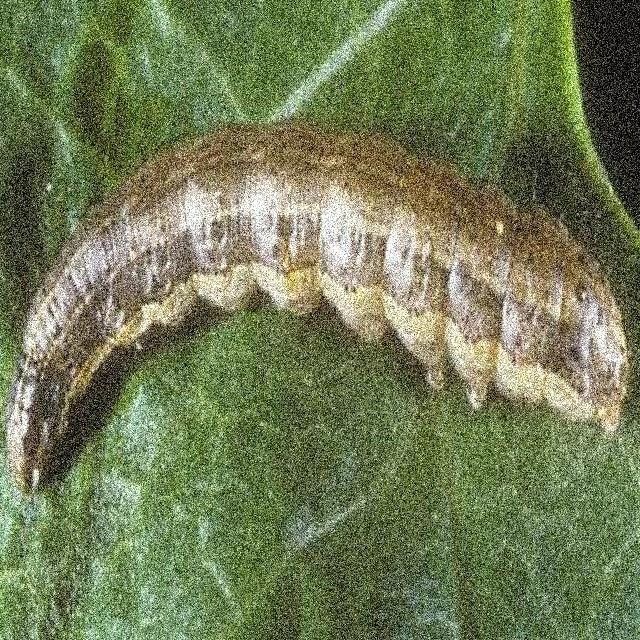gusano_cogollero: (11, 125, 628, 492)
